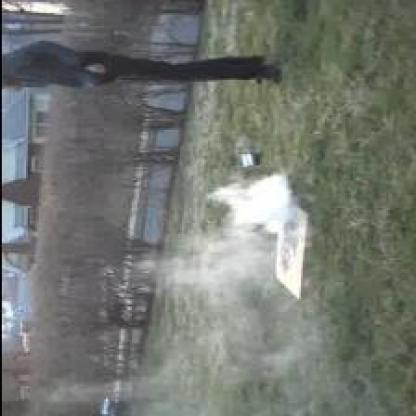Smoke: (144, 182, 303, 324)
